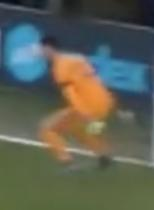goalkeeper: (16, 26, 142, 193)
